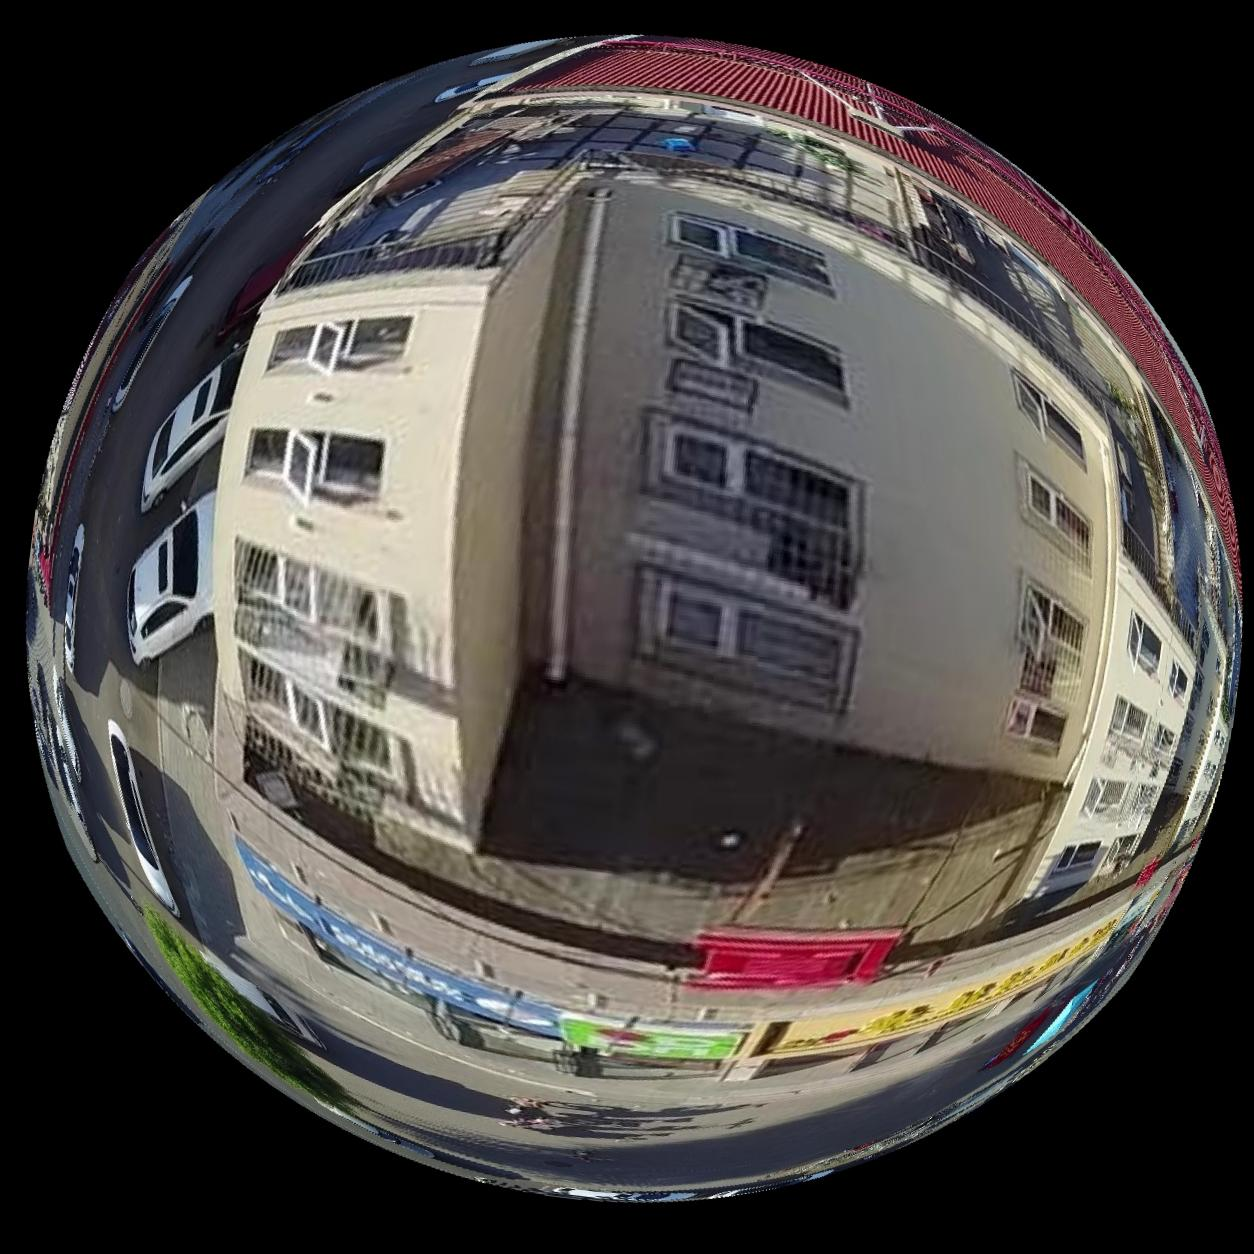building: (211, 38, 1240, 1077)
cars: (139, 349, 240, 510), (124, 491, 212, 663), (104, 720, 173, 914), (199, 950, 323, 1050), (107, 274, 189, 412), (60, 524, 82, 673)
trees: (140, 904, 358, 1124)
